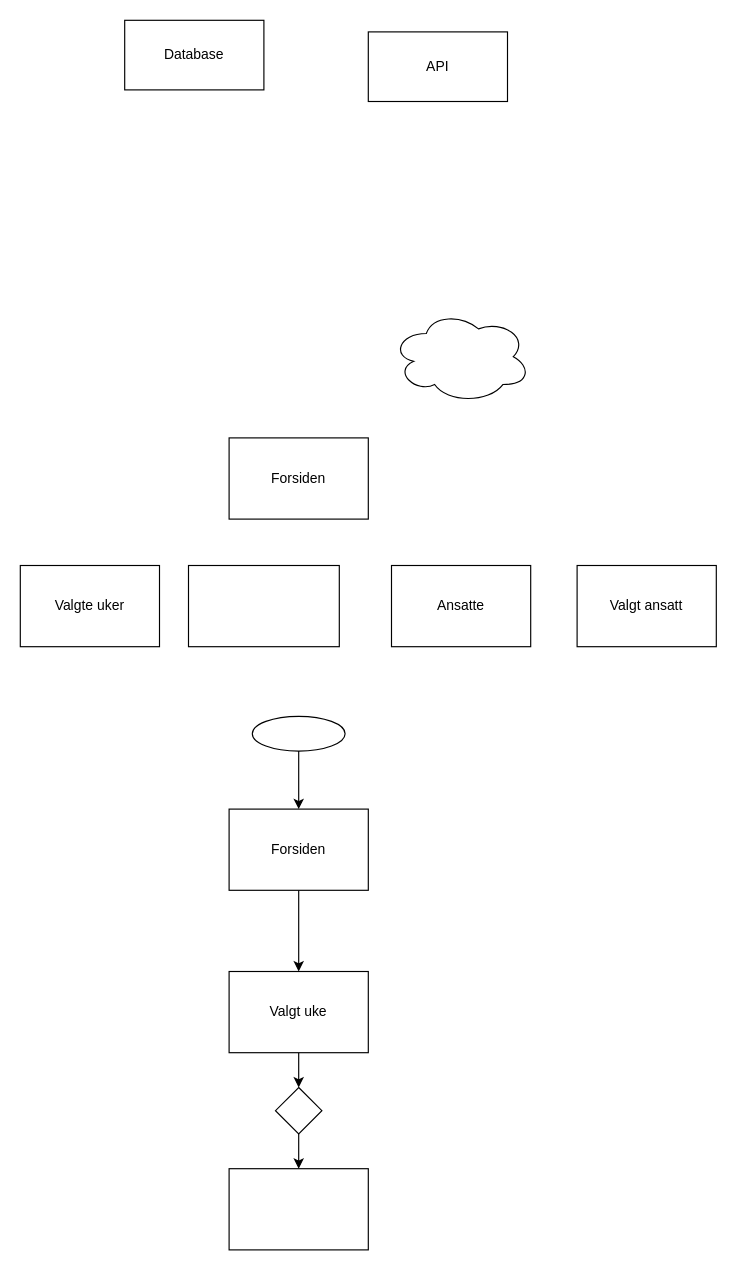
This 737x1270 diagram has some shape labels left out. Each missing label, with the box of its shape:
api/weeks: (390, 309, 531, 403)
Eksporter lunsj listen: (187, 564, 339, 647)
rediger ansatt: (228, 1168, 368, 1250)
Start: (251, 715, 345, 751)
